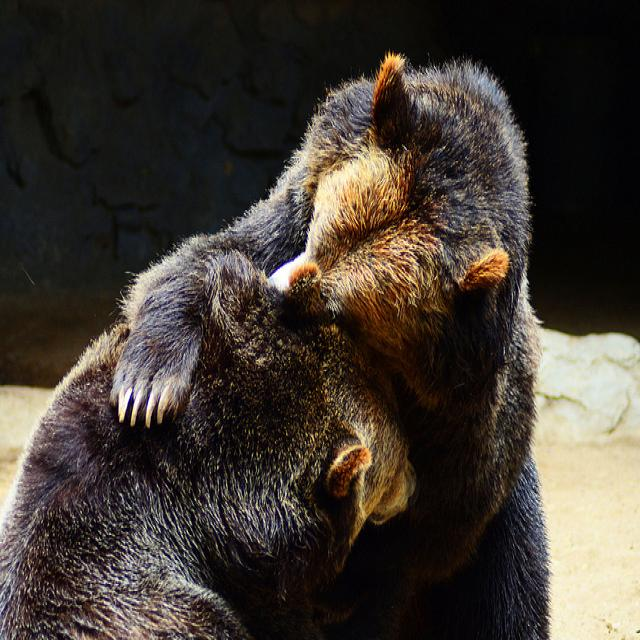Bear: (188, 26, 552, 640), (0, 264, 409, 640)
